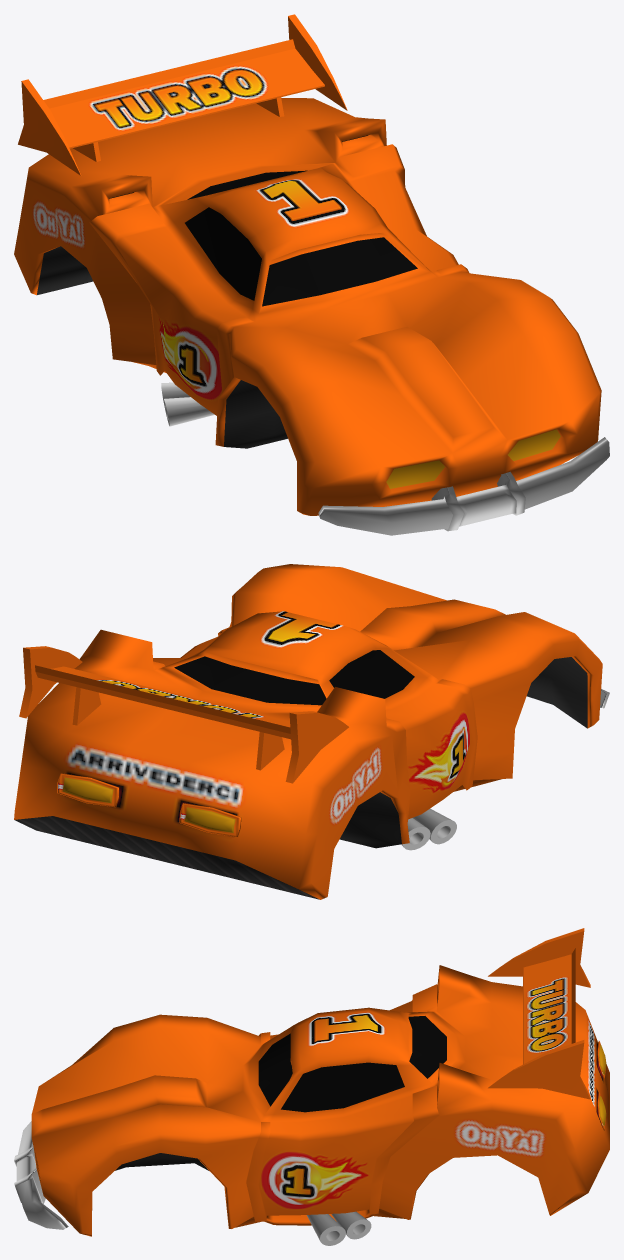
The model's file is racecar.FBX.
3 views of the same model, one above another, from view 1: azimuth 30°, elevation 25°; view 2: azimuth 150°, elevation 25°; view 3: azimuth 270°, elevation 25° (orthographic). The views are drawn at different scales.
Parts seen in each view (by area): view 1: racecar_body; view 2: racecar_body; view 3: racecar_body.
Part boxes in pixels (<box>): racecar_body: <box>14,14,609,535</box>; racecar_body: <box>14,564,609,899</box>; racecar_body: <box>14,928,609,1245</box>.
Bounding box in the file's own units: 0.3091 × 0.2276 × 0.6043.
